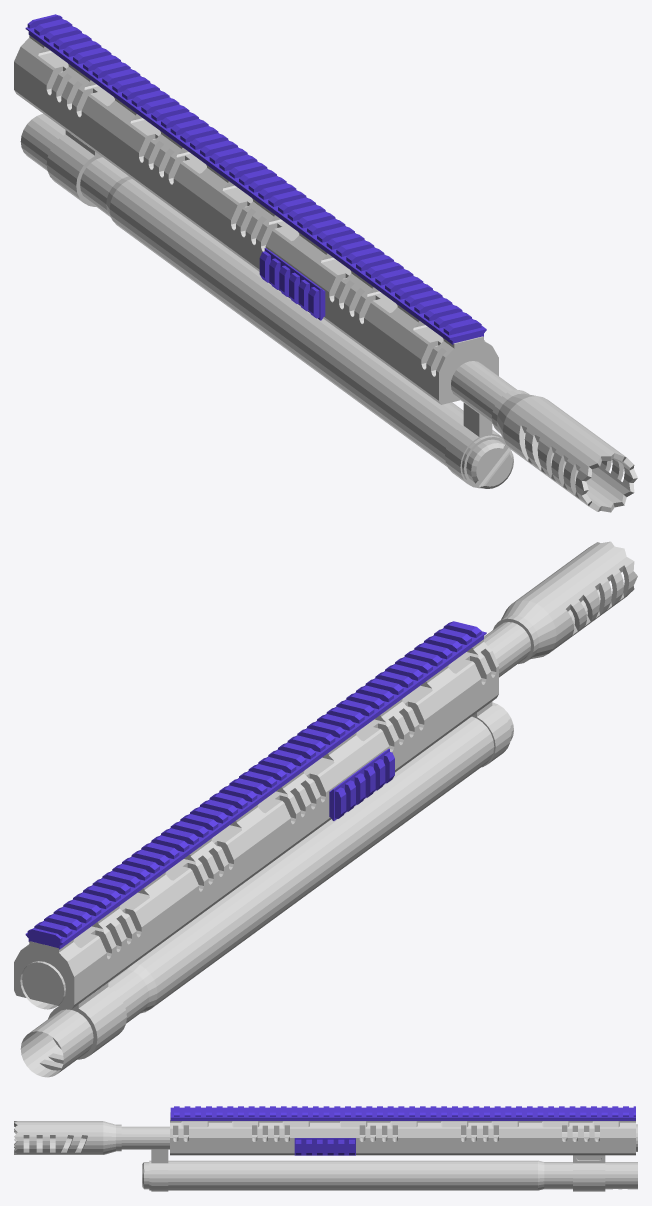
Rendered from SM_LPAMG_MAK12_Barrel_Extended.fbx.
3 views of the same model, one above another, from view 1: azimuth 30°, elevation 25°; view 2: azimuth 150°, elevation 25°; view 3: azimuth 270°, elevation 25° (orthographic). The views are drawn at different scales.
Visible parts, largest first — view 1: SM_LPAMG_MAK12_Barrel_Extended; view 2: SM_LPAMG_MAK12_Barrel_Extended; view 3: SM_LPAMG_MAK12_Barrel_Extended.
Boxes of the visible parts, bbox=[...] form: SM_LPAMG_MAK12_Barrel_Extended: bbox=[14, 14, 637, 512]; SM_LPAMG_MAK12_Barrel_Extended: bbox=[14, 541, 637, 1077]; SM_LPAMG_MAK12_Barrel_Extended: bbox=[14, 1106, 637, 1191].
Size of the model in its own units: 4.46 by 7.73 by 54.16.
